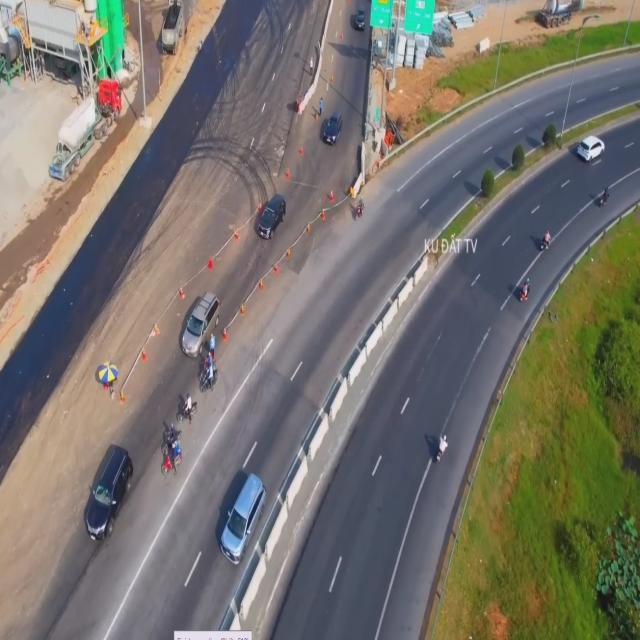car: (83, 444, 136, 548), (222, 469, 268, 562), (182, 287, 219, 357), (255, 192, 288, 246), (578, 135, 606, 163), (322, 111, 344, 146), (352, 7, 366, 35)
motorbike: (162, 441, 182, 472), (175, 401, 196, 428), (199, 368, 218, 395), (519, 277, 537, 305), (434, 436, 448, 469), (598, 182, 613, 209), (539, 229, 552, 254)
